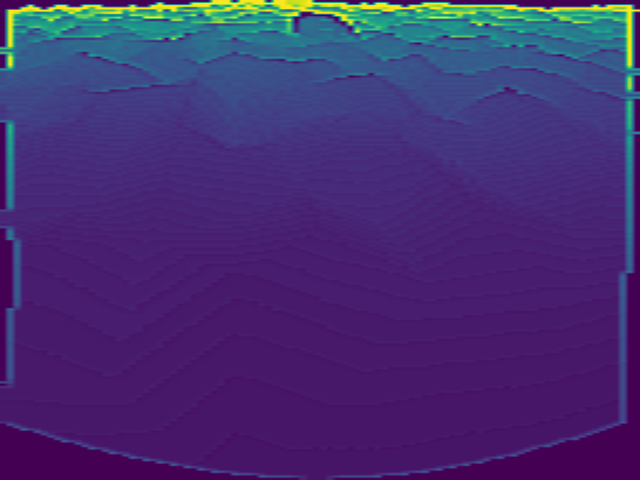car_0198: (286, 10, 358, 41)
